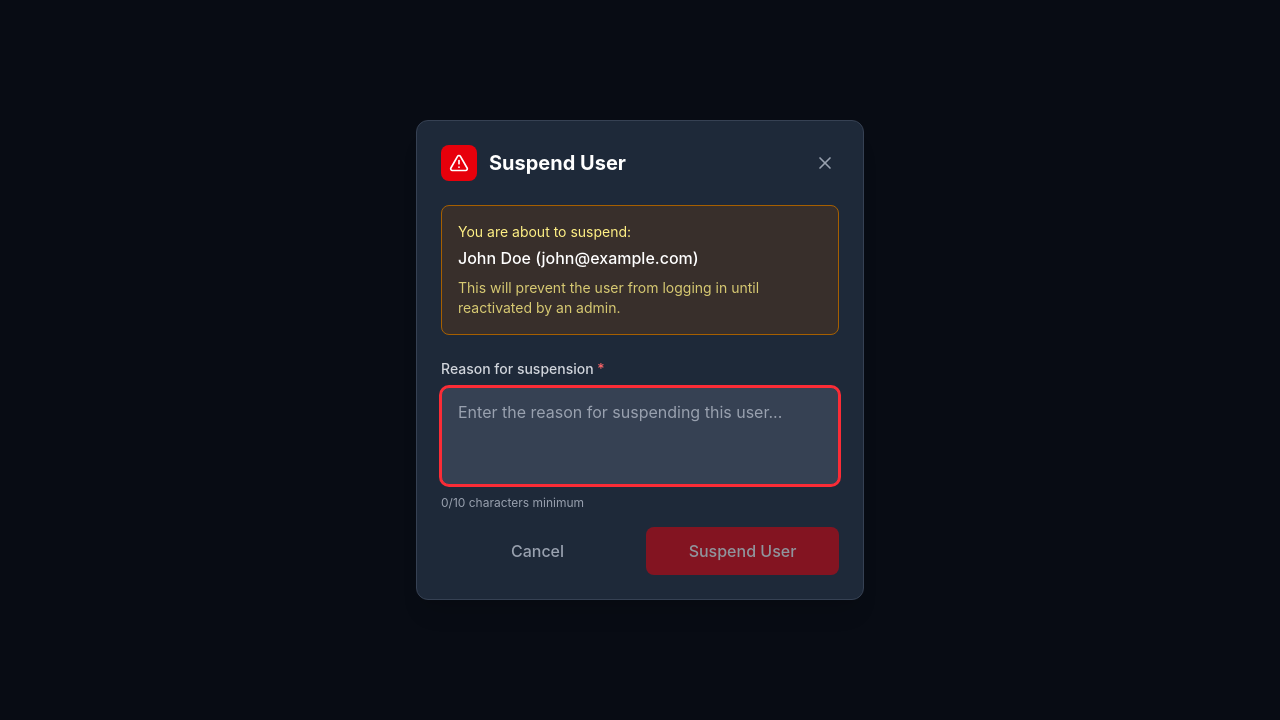
Scenario: SuspendUserModal › form validation › should enable submit button when reason meets minimum length
This screenshot has width=1280, height=720.
Type "This is a valid reason for suspension" into the text box with placeholder "Enter the reason for suspending this user..." at (640, 436), box top-left (441, 387), bottom-right (839, 485)
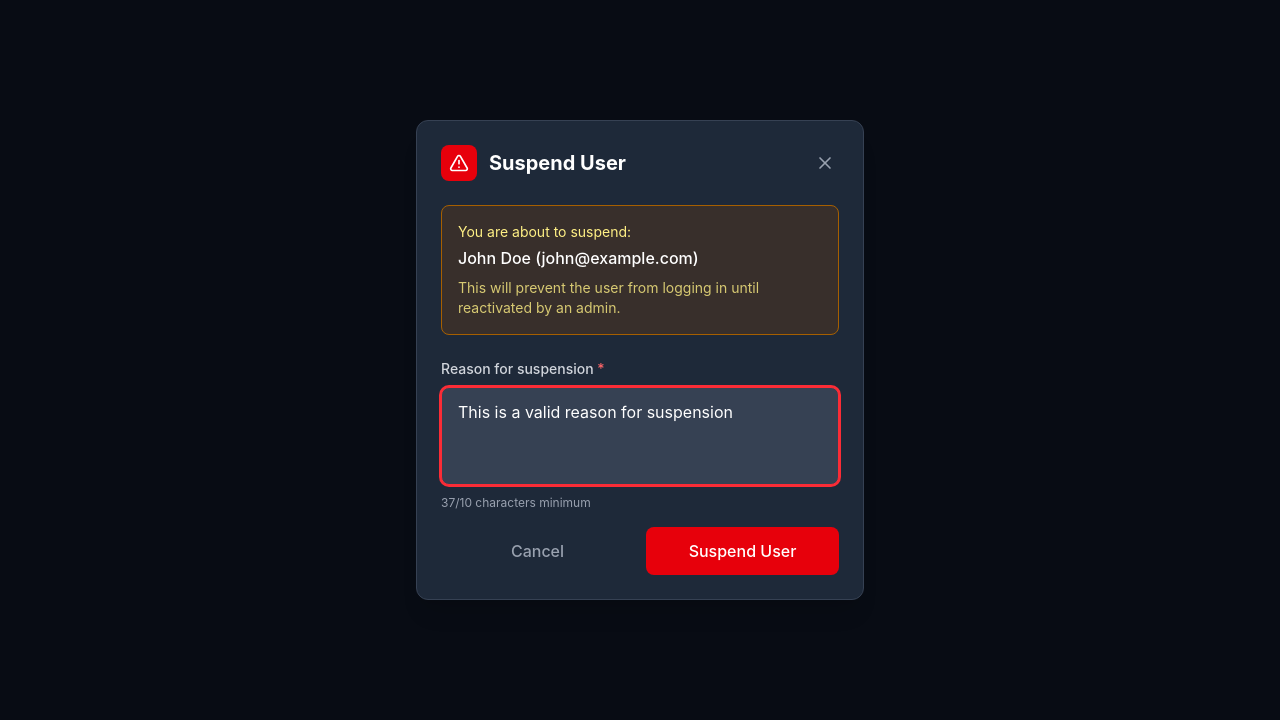
Expected: the button "Suspend User" is enabled, top-left (646, 527), bottom-right (839, 575)
